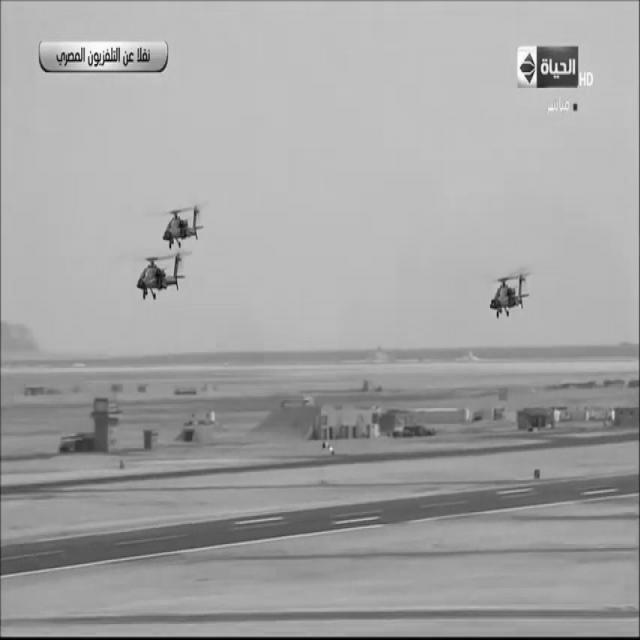helikopter: (468, 255, 542, 332), (148, 193, 220, 251), (127, 252, 195, 311)
